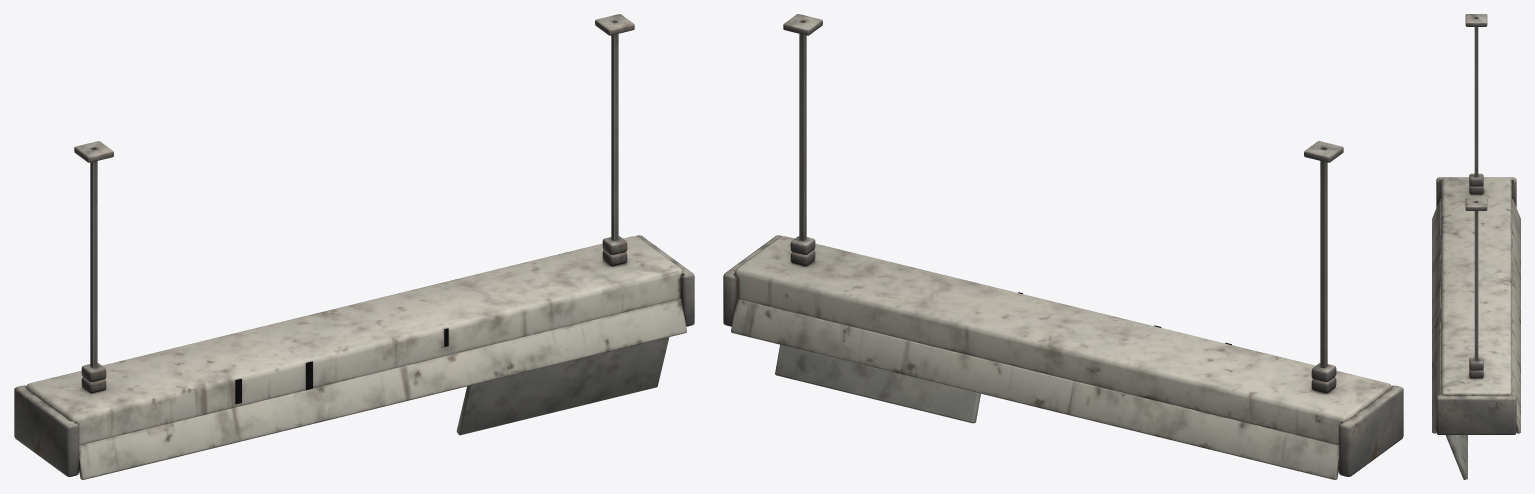
The model's file is light_strip_dead.fbx.
3 renders of one model, left to right at view 1: azimuth 30°, elevation 25°; view 2: azimuth 150°, elevation 25°; view 3: azimuth 270°, elevation 25°, orthographic. The views are drawn at different scales.
Parts seen in each view (by area): view 1: Body; view 2: Body; view 3: Body.
Part boxes in pixels (x1,y1,x2,y2): Body: [14, 14, 694, 479]; Body: [723, 14, 1403, 479]; Body: [1432, 14, 1520, 479].
Size of the model in its own units: 8.2 by 4.59 by 1.39.
1 material, 1 textured.
